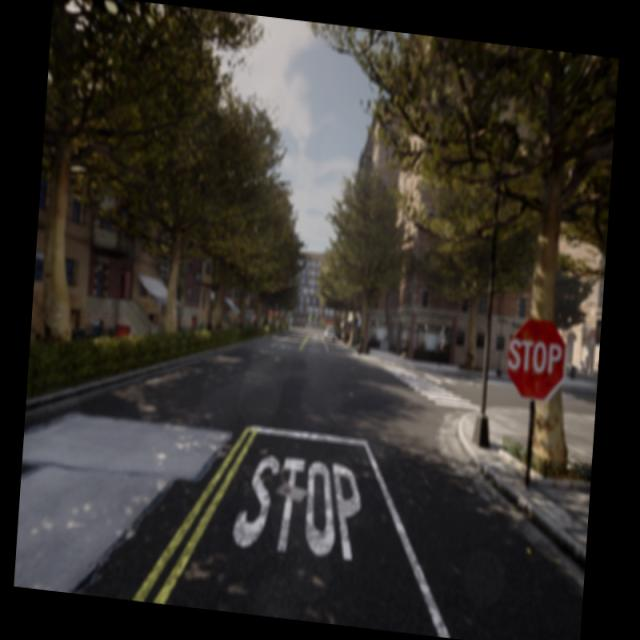stop sign: (503, 315, 567, 402), (506, 336, 564, 375)
